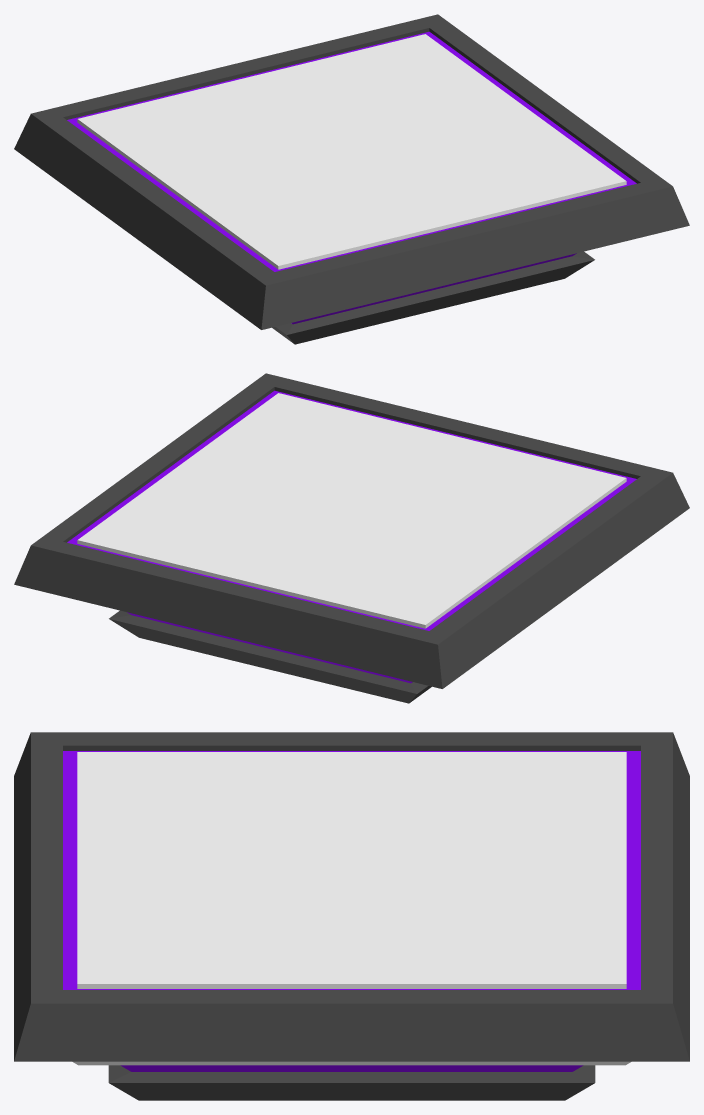
Rendered from Tile.dae.
3 views of the same model, one above another, from view 1: azimuth 30°, elevation 25°; view 2: azimuth 150°, elevation 25°; view 3: azimuth 270°, elevation 25° (orthographic). The views are drawn at different scales.
Visible parts, largest first — view 1: Cube; view 2: Cube; view 3: Cube.
Boxes of the visible parts, box(x1,y1,x2,y2) form: Cube: box(14, 14, 689, 344); Cube: box(14, 373, 689, 703); Cube: box(14, 732, 689, 1100).
Size of the model in its own units: 6 by 6 by 1.7.
